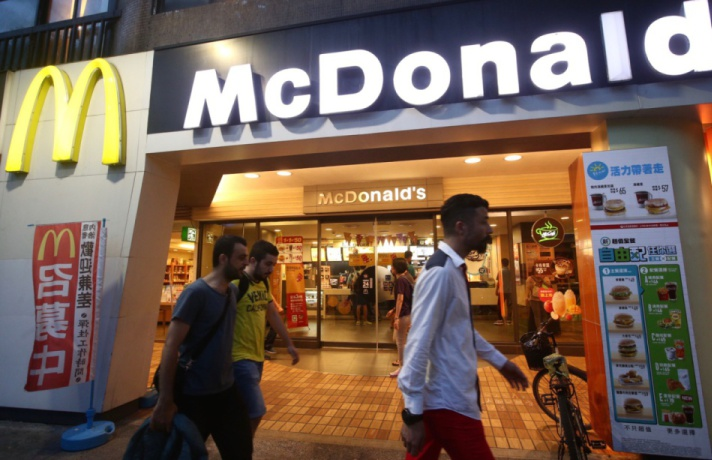mcdonalds: (1, 51, 133, 184)
